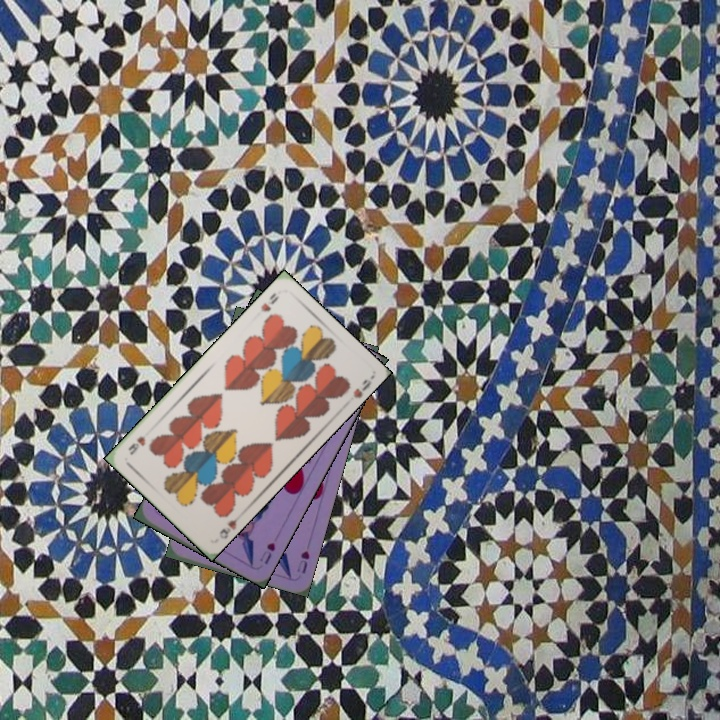H9: (215, 510, 243, 540), (257, 288, 282, 314)
HU: (255, 538, 278, 567), (292, 546, 312, 576)
